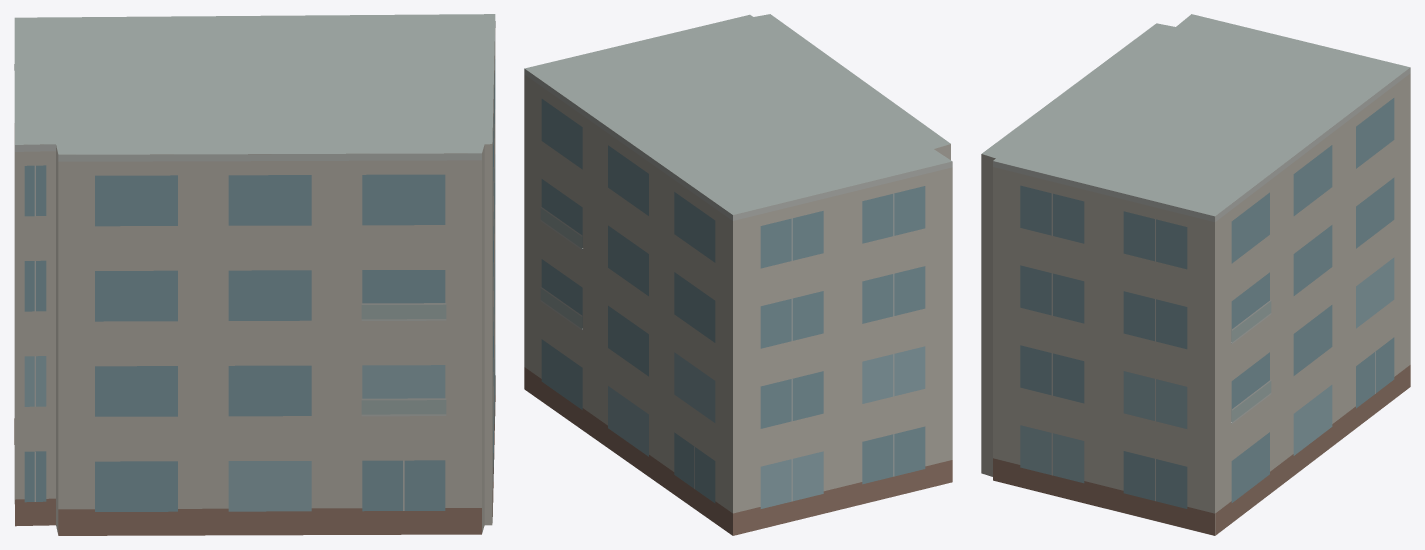
Rendered from survey-upis-32984048.glb.
3 views of the same model, side by side, from view 1: azimuth 30°, elevation 25°; view 2: azimuth 150°, elevation 25°; view 3: azimuth 270°, elevation 25° (orthographic). The views are drawn at different scales.
Parts seen in each view (by area): view 1: survey-upis-32984048.tmp; view 2: survey-upis-32984048.tmp; view 3: survey-upis-32984048.tmp.
Part boxes in pixels (bbox=[...]): survey-upis-32984048.tmp: bbox=[14, 14, 495, 535]; survey-upis-32984048.tmp: bbox=[524, 14, 952, 535]; survey-upis-32984048.tmp: bbox=[981, 14, 1410, 535].
Size of the model in its own units: 17.94 by 13.2 by 16.08.
